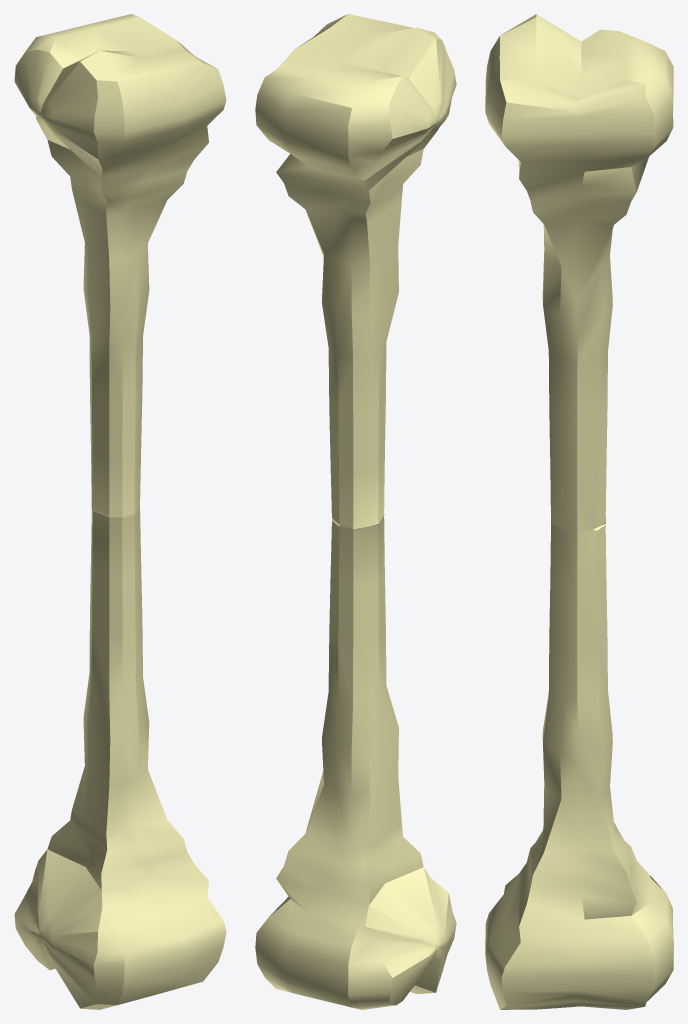
File: Bone.fbx
3 renders of one model, left to right at view 1: azimuth 30°, elevation 25°; view 2: azimuth 150°, elevation 25°; view 3: azimuth 270°, elevation 25°, orthographic.
Visible parts, largest first — view 1: Cube; view 2: Cube; view 3: Cube.
Part boxes in pixels (left/top/right/bottom): Cube: left=14, top=14, right=226, bottom=1009; Cube: left=255, top=14, right=456, bottom=1009; Cube: left=485, top=14, right=673, bottom=1009.
Bounding box in the file's own units: 45.35 × 276 × 48.44.
